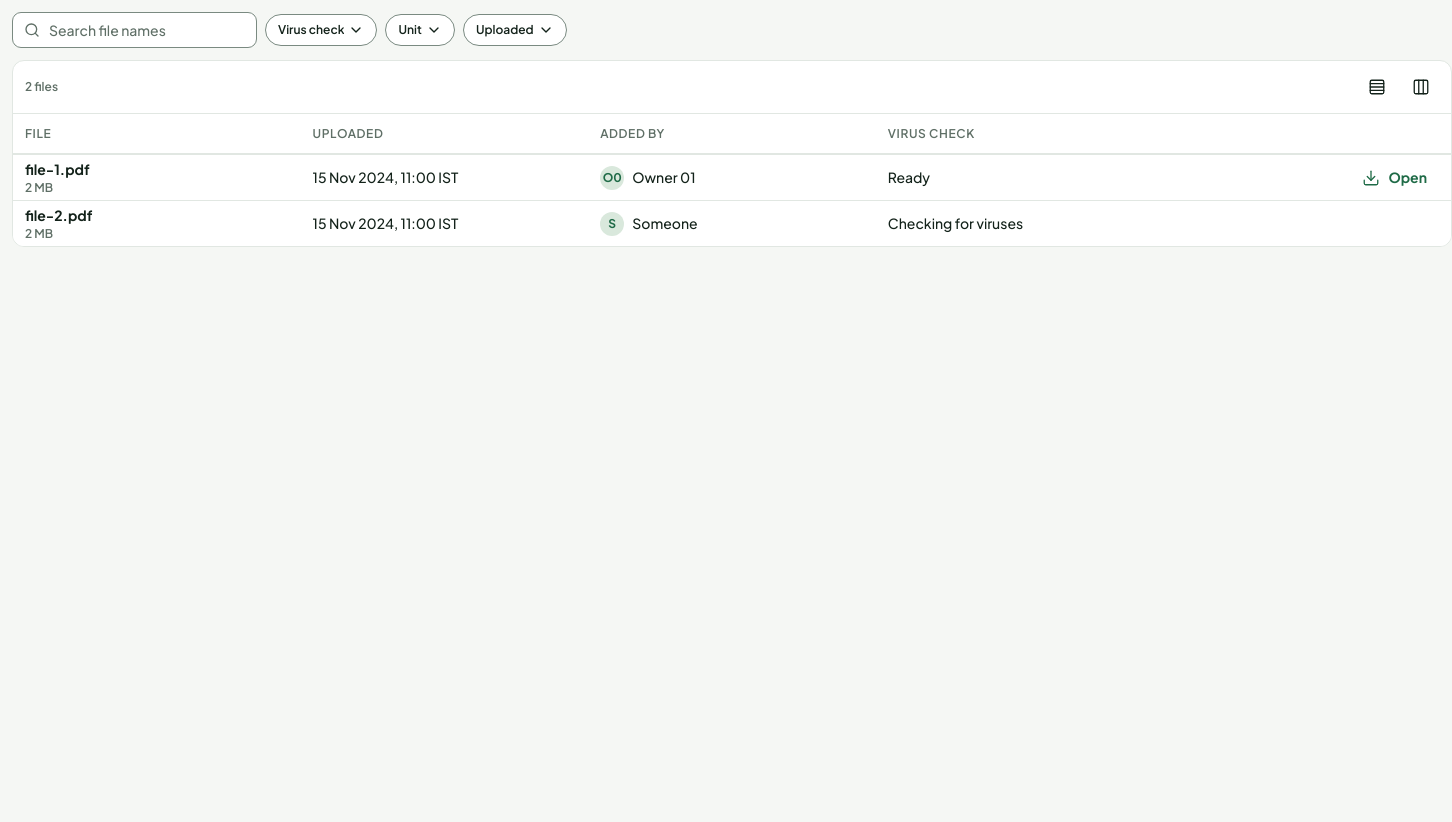
EvidenceVault › opens a clean file through a signed URL fetched on the click, and says when it can’t
Click the button with aria-label "Open file-1.pdf" at coordinates (1395, 178), box [1350, 162, 1439, 194]
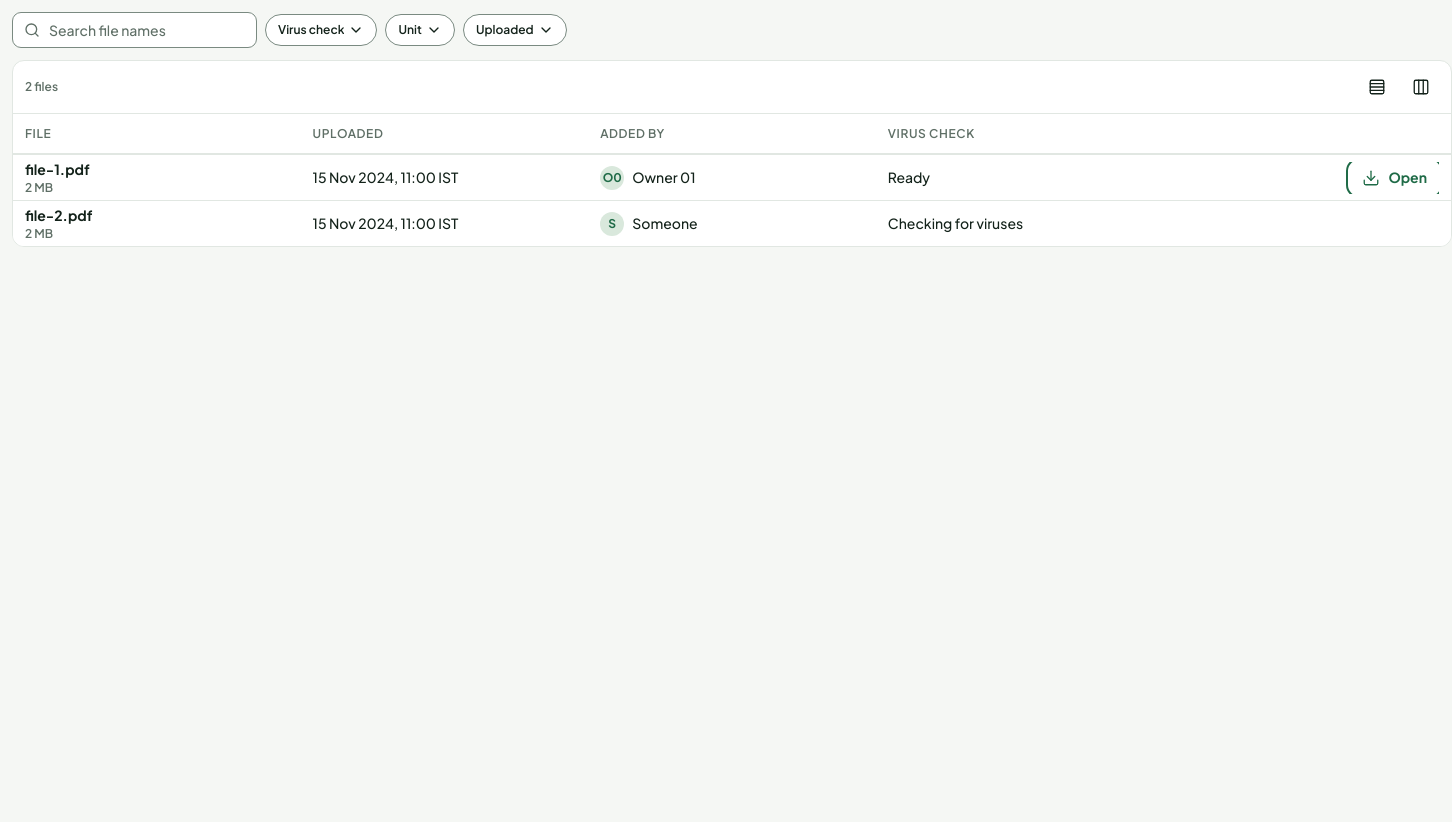
Click the button with aria-label "Open file-1.pdf" at coordinates (1395, 178), box [1350, 162, 1439, 194]
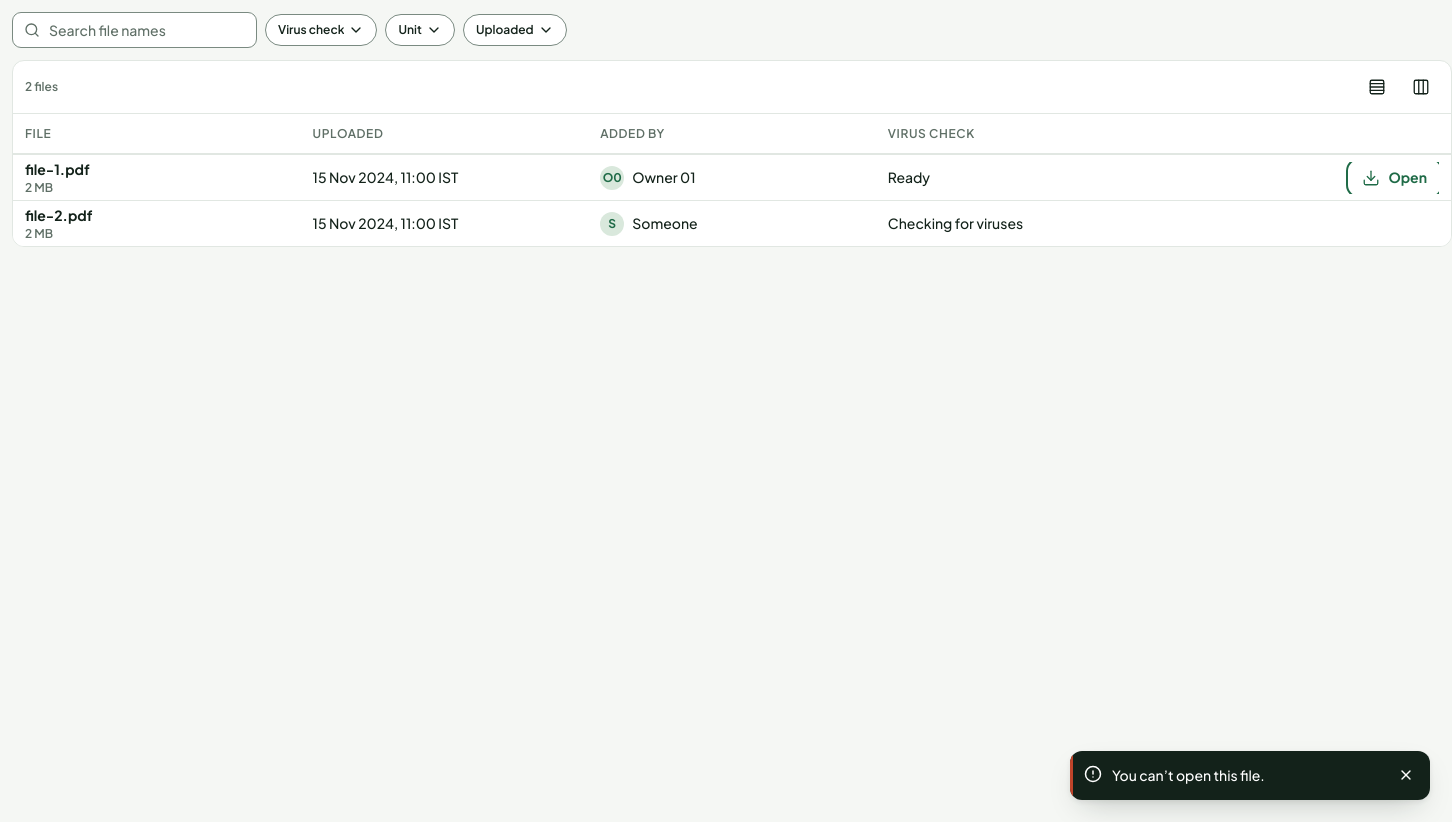
Expected: the text "You can’t open this file." is shown, [1112, 766, 1265, 784]
